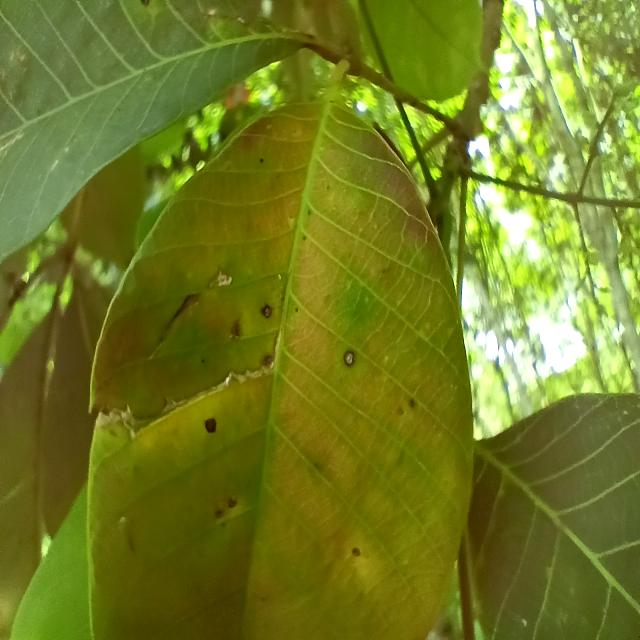Colletotrichum: (343, 350, 355, 367), (260, 304, 272, 318), (205, 418, 216, 433)
